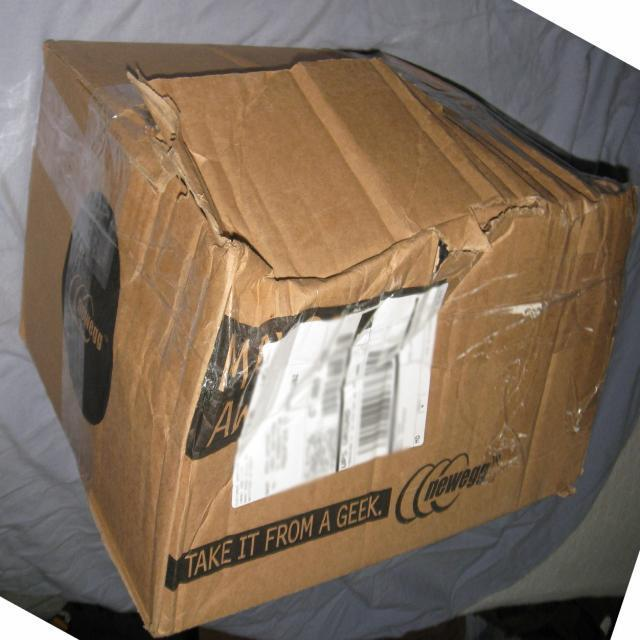damaged: (422, 230, 456, 272)
